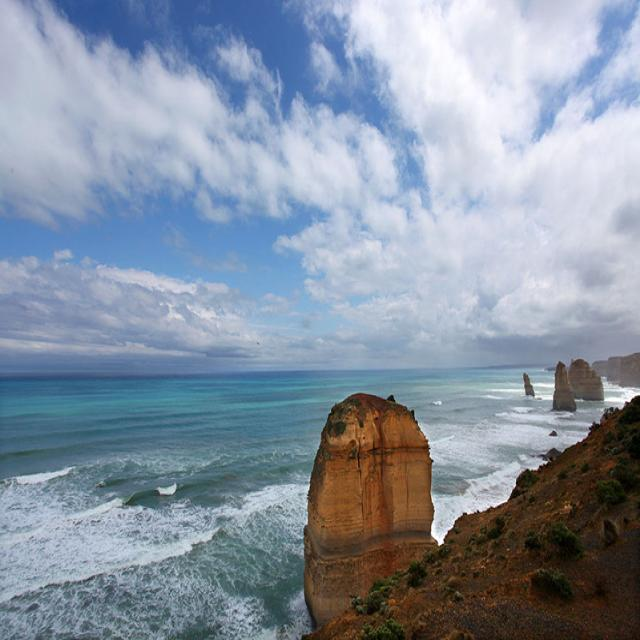reef: (297, 384, 444, 574)
